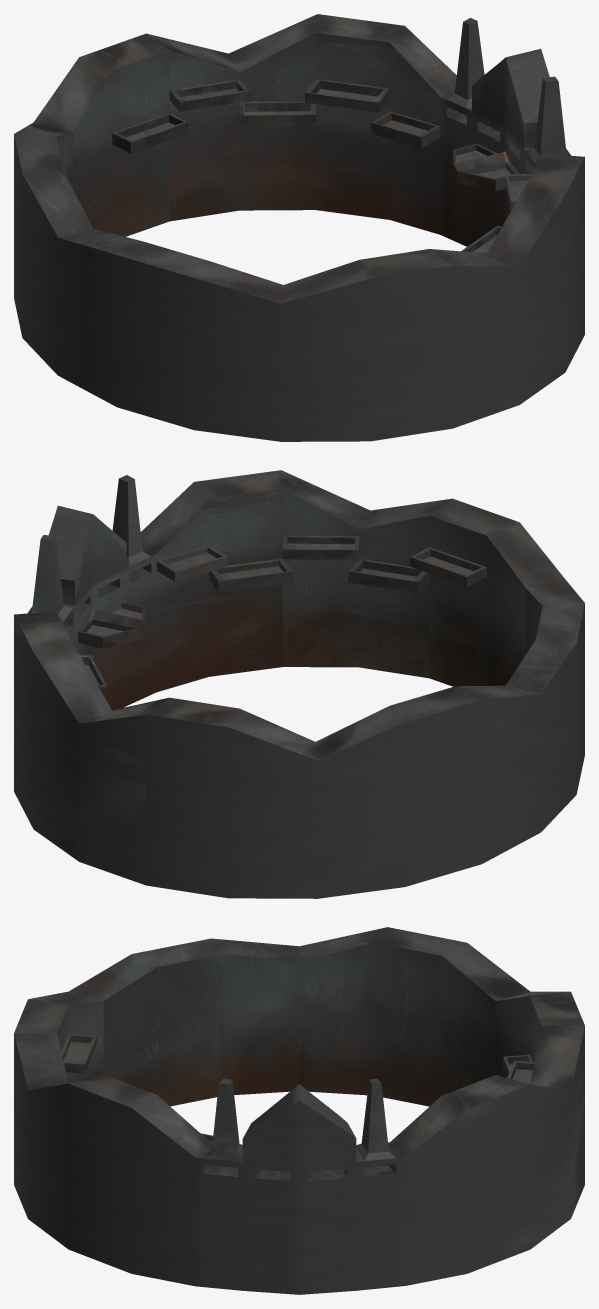
The model's file is Fortress.fbx.
3 renders of one model, top to bottom at view 1: azimuth 30°, elevation 25°; view 2: azimuth 150°, elevation 25°; view 3: azimuth 270°, elevation 25°, orthographic. The views are drawn at different scales.
Visible parts, largest first — view 1: pPipe6; view 2: pPipe6; view 3: pPipe6.
Boxes of the visible parts, left/top/right/bottom form: pPipe6: left=14, top=14, right=584, bottom=441; pPipe6: left=14, top=470, right=584, bottom=898; pPipe6: left=14, top=927, right=584, bottom=1294.
Size of the model in its own units: 24.81 by 10.51 by 27.23.
1 material, 1 textured.
